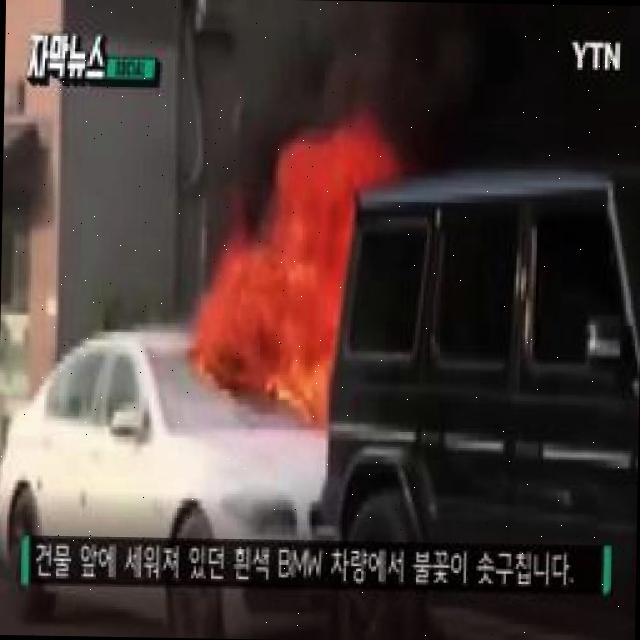fire: (216, 130, 402, 414)
